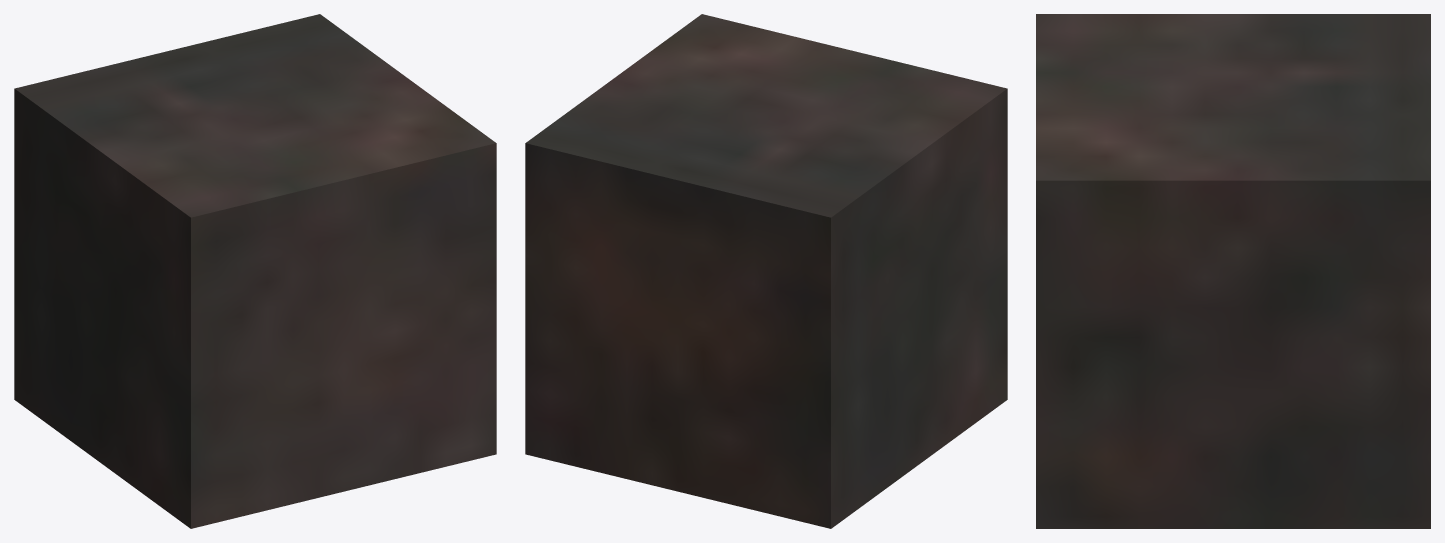
The model's file is MetalBlock_Storage.FBX.
3 views of the same model, side by side, from view 1: azimuth 30°, elevation 25°; view 2: azimuth 150°, elevation 25°; view 3: azimuth 270°, elevation 25° (orthographic). The views are drawn at different scales.
Visible parts, largest first — view 1: MetalBlock_Storage; view 2: MetalBlock_Storage; view 3: MetalBlock_Storage.
Boxes of the visible parts, x1=… form: MetalBlock_Storage: x1=14, y1=14, x2=496, y2=528; MetalBlock_Storage: x1=525, y1=14, x2=1007, y2=528; MetalBlock_Storage: x1=1036, y1=14, x2=1430, y2=528.
Bounding box in the file's own units: 10.07 × 9.81 × 10.07.
